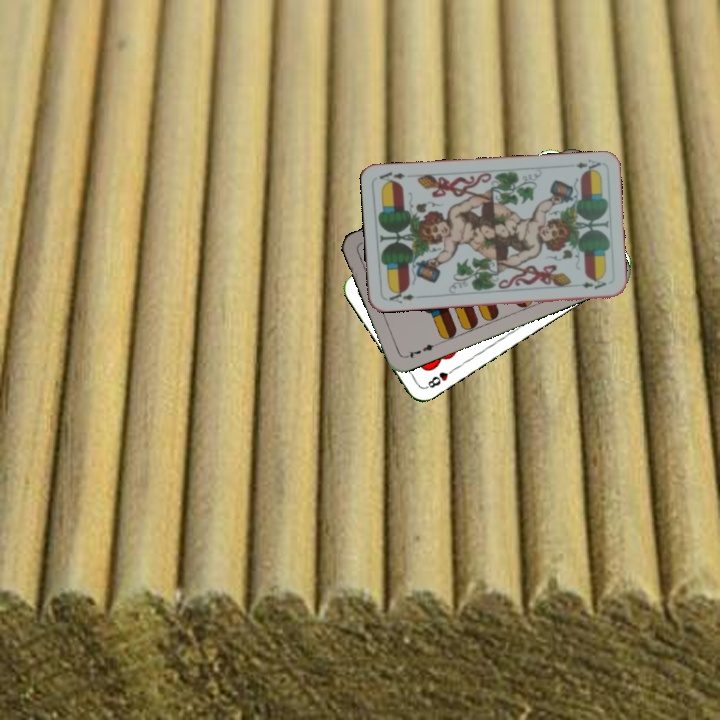E7: (401, 340, 440, 361)
EA: (385, 286, 417, 306), (572, 155, 603, 175)
H8: (422, 364, 458, 391)
